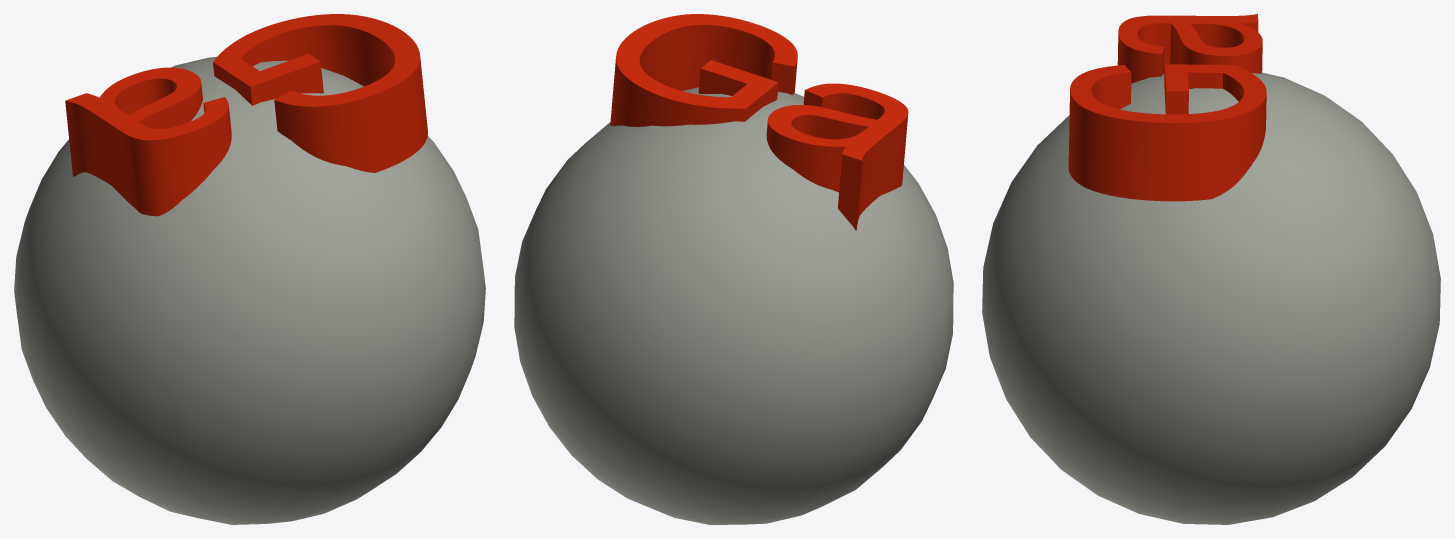
3 renders of one model, left to right at view 1: azimuth 30°, elevation 25°; view 2: azimuth 150°, elevation 25°; view 3: azimuth 270°, elevation 25°, orthographic. The views are drawn at different scales.
Visible parts, largest first — view 1: Zn001; view 2: Zn001; view 3: Zn001.
Boxes of the visible parts, box(x1,y1,x2,y2) form: Zn001: box(14, 14, 485, 524); Zn001: box(514, 14, 953, 524); Zn001: box(982, 14, 1440, 524).
Bounding box in the file's own units: 38.63 × 41.18 × 38.65.
